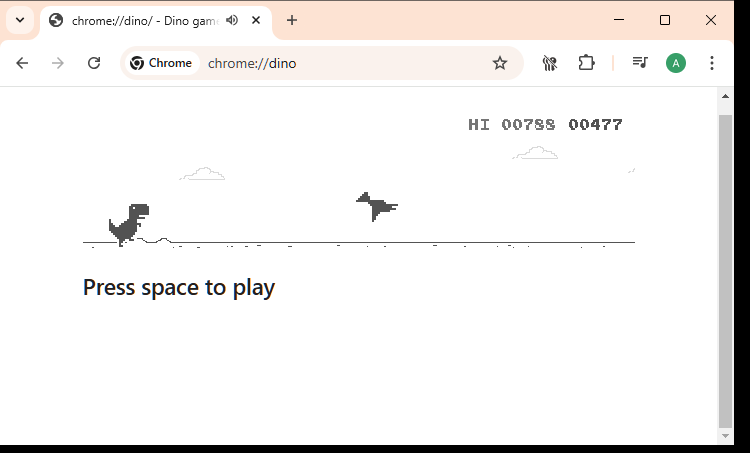bird: (355, 189, 399, 222)
dino: (108, 203, 150, 248)
